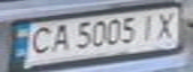0: (90, 17, 109, 48), (106, 16, 124, 46)
5: (118, 14, 142, 44), (72, 19, 93, 51)
A: (48, 21, 75, 53)
C: (24, 24, 57, 56)
I: (136, 11, 160, 42)
X: (151, 9, 181, 40)
